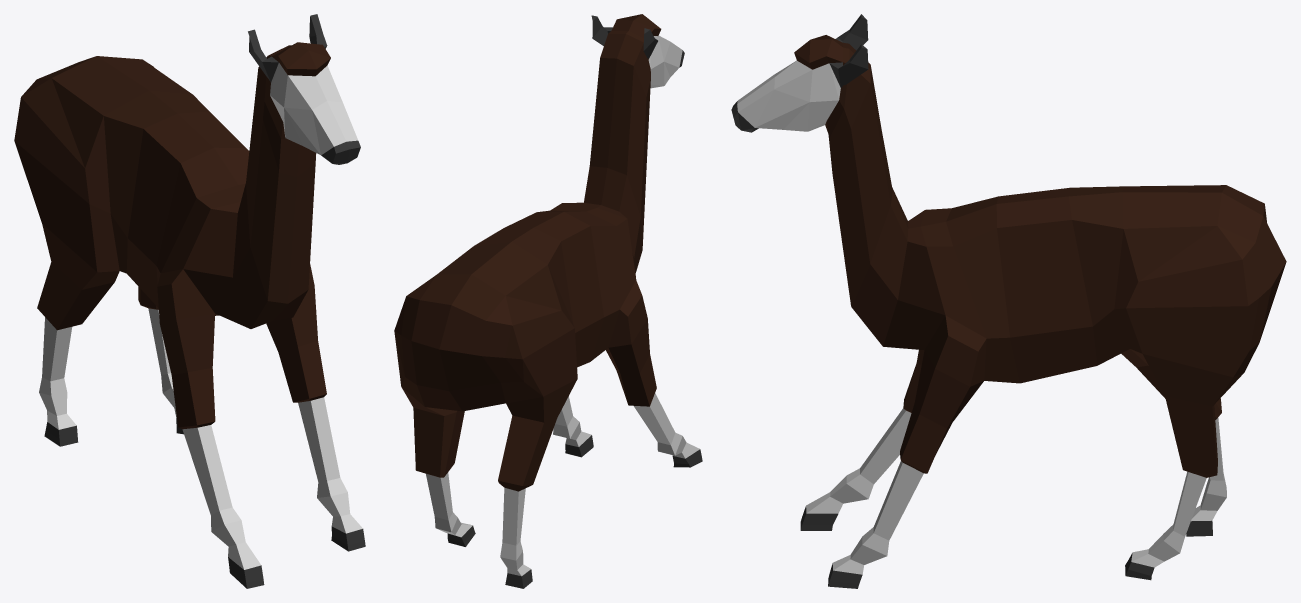
Rendered from Llama__1_000021.obj.
3 views of the same model, side by side, from view 1: azimuth 30°, elevation 25°; view 2: azimuth 150°, elevation 25°; view 3: azimuth 270°, elevation 25° (orthographic). The views are drawn at different scales.
Visible parts, largest first — view 1: Llama_Cylinder; view 2: Llama_Cylinder; view 3: Llama_Cylinder.
Part boxes in pixels (<box>): Llama_Cylinder: <box>14,14,365,588</box>; Llama_Cylinder: <box>394,14,702,588</box>; Llama_Cylinder: <box>731,14,1286,588</box>.
Size of the model in its own units: 1.57 by 5.29 by 5.06.
